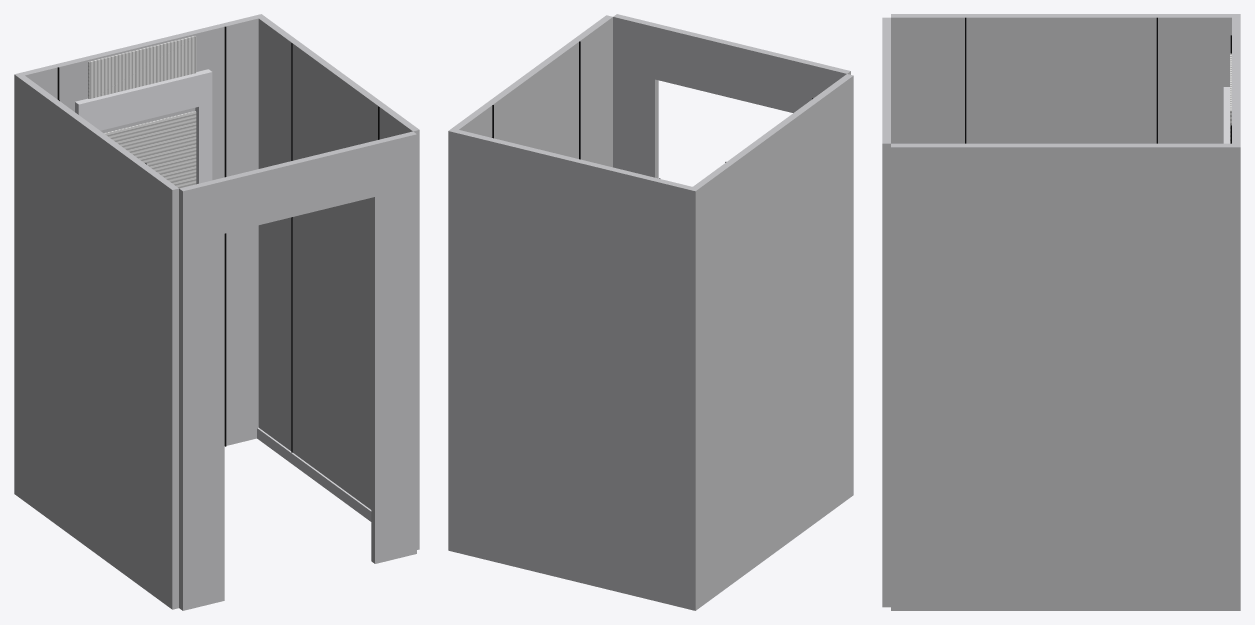
File: wall_mirror-etched.glb
3 renders of one model, left to right at view 1: azimuth 30°, elevation 25°; view 2: azimuth 150°, elevation 25°; view 3: azimuth 270°, elevation 25°, orthographic. The views are drawn at different scales.
Parts seen in each view (by area): view 1: Wall_Left, Wall_Right, Wall_Back, Front_Return_L, Front_Return_R, Front_Header, Back_Header, Back_Mirror_Top, Back_Recess, Skirting_R, Back_Post_R, Back_Seam_R (+1 smaller); view 2: Wall_Back, Wall_Left, Wall_Right, Front_Header, Front_Return_R, Front_Return_L; view 3: Wall_Right, Wall_Left, Wall_Back, Front_Return_R, Front_Header.
Boxes of the visible parts, box(x1,y1,x2,y2) form: Wall_Left: box(18, 75, 178, 609); Wall_Right: box(258, 17, 419, 549); Wall_Back: box(14, 14, 264, 496); Front_Return_L: box(179, 178, 224, 610); Front_Return_R: box(371, 131, 416, 563); Front_Header: box(221, 141, 374, 233); Back_Header: box(75, 69, 212, 130); Back_Mirror_Top: box(88, 36, 196, 98); Back_Recess: box(104, 111, 196, 188); Skirting_R: box(257, 427, 371, 521); Back_Post_R: box(195, 103, 212, 184); Back_Seam_R: box(224, 26, 226, 446); Wall_Back: box(448, 128, 699, 610); Wall_Left: box(693, 74, 853, 607); Wall_Right: box(452, 15, 612, 167); Front_Header: box(655, 24, 808, 112); Front_Return_R: box(613, 14, 658, 178); Front_Return_L: box(805, 61, 850, 103); Wall_Right: box(891, 143, 1231, 610); Wall_Left: box(891, 14, 1231, 143); Wall_Back: box(1232, 14, 1240, 610); Front_Return_R: box(882, 121, 890, 607); Front_Header: box(882, 40, 890, 121).
Size of the model in its own units: 1.48 by 2.4 by 1.68.
Materials: 4 (1 with a texture image).
